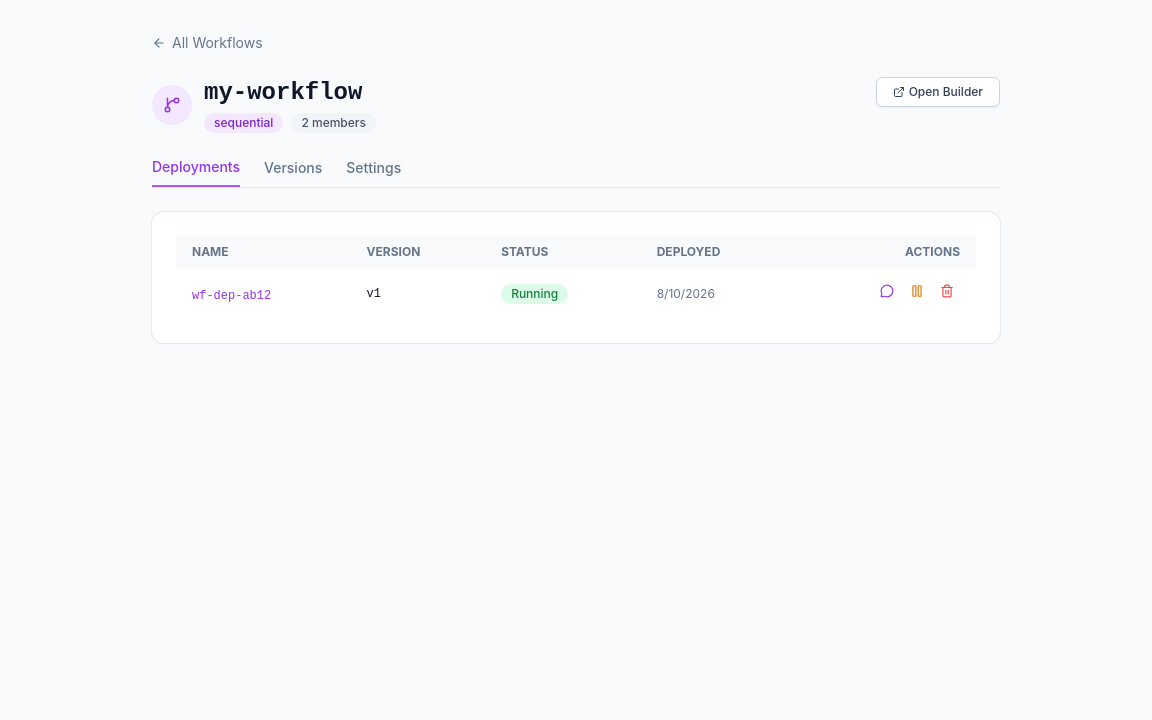
Scenario: WorkflowDetailPage › switches to settings tab
Check: the heading "my-workflow" is shown, box [204,77,376,109]
What coordinates should you click on to do the following:
click the button "settings"
I would click on:
 (374, 172)
Its box is [346,157,401,187].
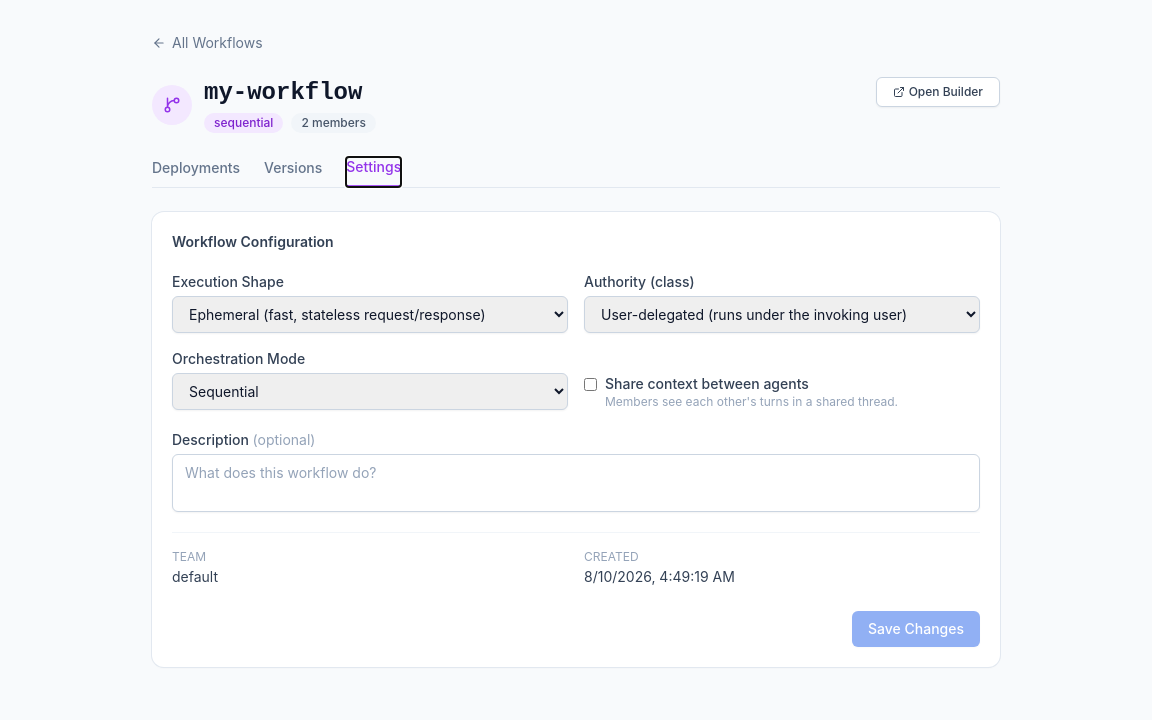
Check: the heading "Workflow Configuration" is shown, box [172,233,334,250]
